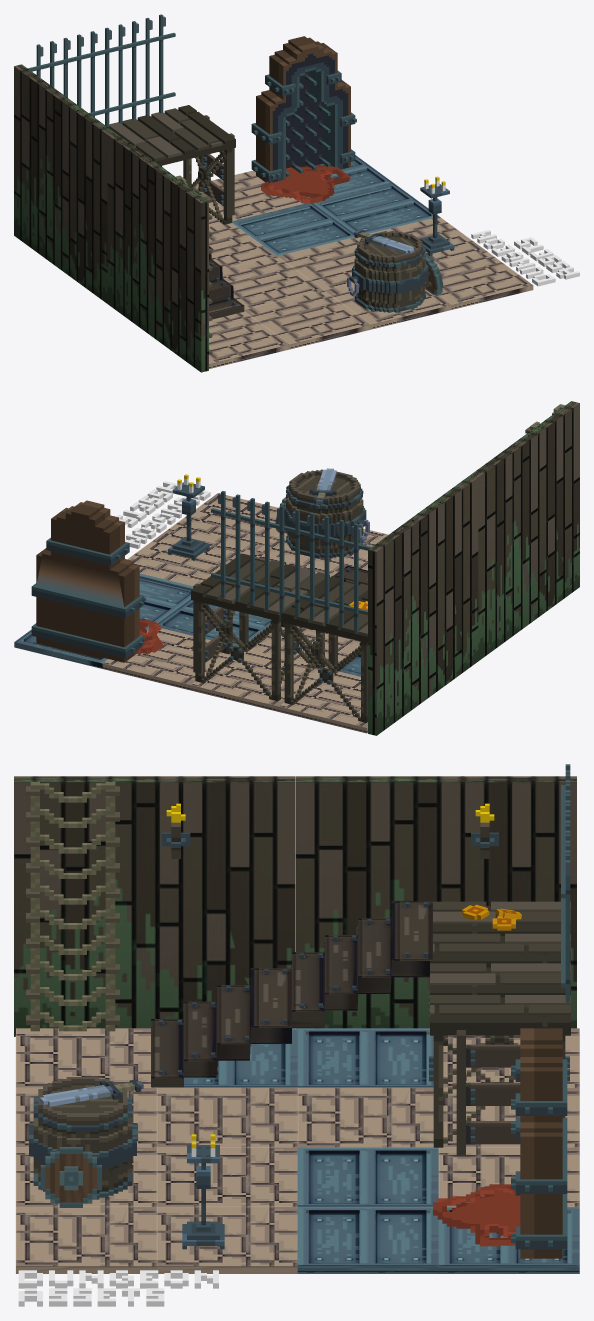
File: template2-free.fbx
3 renders of one model, top to bottom at view 1: azimuth 30°, elevation 25°; view 2: azimuth 150°, elevation 25°; view 3: azimuth 270°, elevation 25°, orthographic. The views are drawn at different scales.
Visible parts, largest first — view 1: wall_V_opt, wall_V_opt_1, torture1_opt, barrel, planks1_1, floor_4_opt_1, floor_1_opt_10, floor_1_opt_11, floor_4_opt_3, floor_4_opt_1_5, metal_grid_1_1, floor_4_opt_0 (+15 smaller); view 2: wall_V_opt_1, wall_V_opt, torture1_opt, barrel, wood_stairs_I_1, planks1_1, metal_grid_1_1, metal_grid_1, floor_4_opt_1_13, wood_stairs_I, floor_4_opt_1_14, floor_4_opt_1_7 (+13 smaller); view 3: wall_V_opt, wall_V_opt_1, torture1_opt, floor_2_opt, floor_2_opt_1, planks1_1, floor_1_opt_11, floor_4_opt_3, floor_1_opt_10, floor_4_opt_1_5, floor_4_opt_1_9, floor_4_opt_1_7 (+25 smaller).
Part boxes in pixels (x1,y1,x2,y2): wall_V_opt: (107, 133, 208, 372); wall_V_opt_1: (14, 64, 114, 303); torture1_opt: (251, 36, 356, 182); barrel: (347, 231, 428, 312); planks1_1: (109, 105, 235, 165); floor_4_opt_1: (244, 290, 370, 349); floor_1_opt_10: (232, 202, 354, 255); floor_1_opt_11: (314, 182, 438, 233); floor_4_opt_3: (436, 251, 533, 309); floor_4_opt_1_5: (222, 256, 323, 309); metal_grid_1_1: (93, 14, 175, 127); floor_4_opt_0: (209, 311, 289, 368); wall_V_opt_1: (368, 475, 478, 735); wall_V_opt: (470, 401, 579, 661); torture1_opt: (31, 500, 145, 662); barrel: (283, 469, 369, 558); wood_stairs_I_1: (195, 601, 324, 700); planks1_1: (191, 553, 329, 621); metal_grid_1_1: (211, 491, 300, 614); metal_grid_1: (285, 509, 371, 632); floor_4_opt_1_13: (190, 650, 319, 711); wood_stairs_I: (284, 623, 367, 722); floor_4_opt_1_14: (102, 628, 230, 690); floor_4_opt_1_7: (127, 530, 250, 585); wall_V_opt: (14, 776, 295, 1036); wall_V_opt_1: (295, 776, 576, 1028); torture1_opt: (511, 1028, 567, 1258); floor_2_opt: (292, 901, 432, 1027); floor_2_opt_1: (151, 968, 291, 1087); planks1_1: (430, 963, 570, 1035); floor_1_opt_11: (297, 1207, 438, 1273); floor_4_opt_3: (16, 1207, 156, 1273); floor_1_opt_10: (297, 1147, 438, 1206); floor_4_opt_1_5: (157, 1087, 297, 1147); floor_4_opt_1_9: (297, 1087, 433, 1147); floor_4_opt_1_7: (157, 1207, 297, 1273).
Bounding box in the file's own units: 141 × 66.19 × 120.
Materials: 5 (5 with a texture image).
